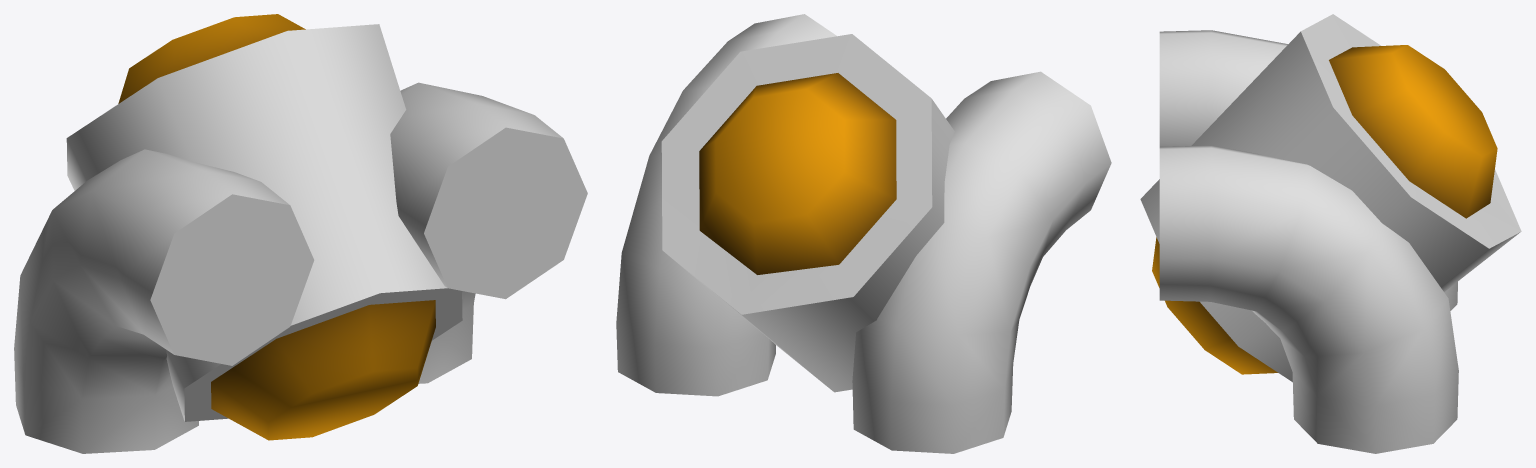
File: obj_dekotora_bulbframing04.fbx
3 views of the same model, side by side, from view 1: azimuth 30°, elevation 25°; view 2: azimuth 150°, elevation 25°; view 3: azimuth 270°, elevation 25° (orthographic). The views are drawn at different scales.
Parts seen in each view (by area): view 1: Cylinder.045, Cylinder.046; view 2: Cylinder.045, Cylinder.046; view 3: Cylinder.045, Cylinder.046.
Part boxes in pixels (x1,y1,x2,y2): Cylinder.045: (14, 82, 587, 453); Cylinder.046: (66, 14, 462, 440); Cylinder.045: (616, 14, 1111, 453); Cylinder.046: (661, 34, 954, 392); Cylinder.045: (1159, 30, 1458, 453); Cylinder.046: (1140, 14, 1521, 381).
Size of the model in its own units: 1.02 by 0.8821 by 0.8821.
